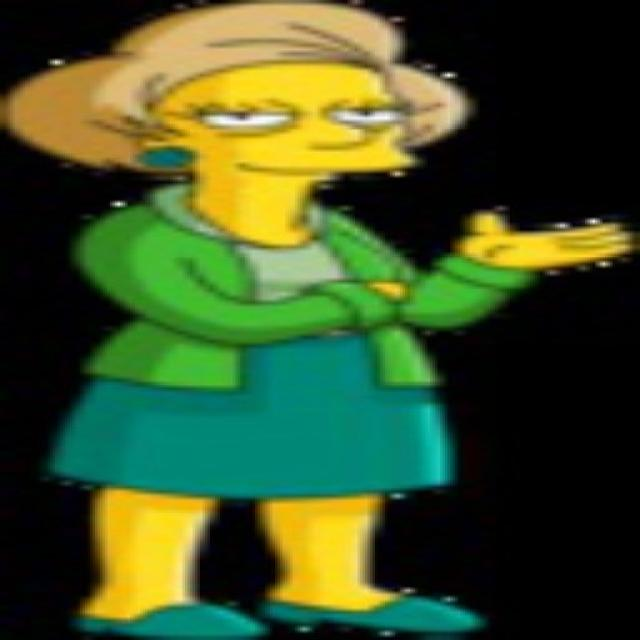Edna Krappel: (2, 1, 478, 208)
